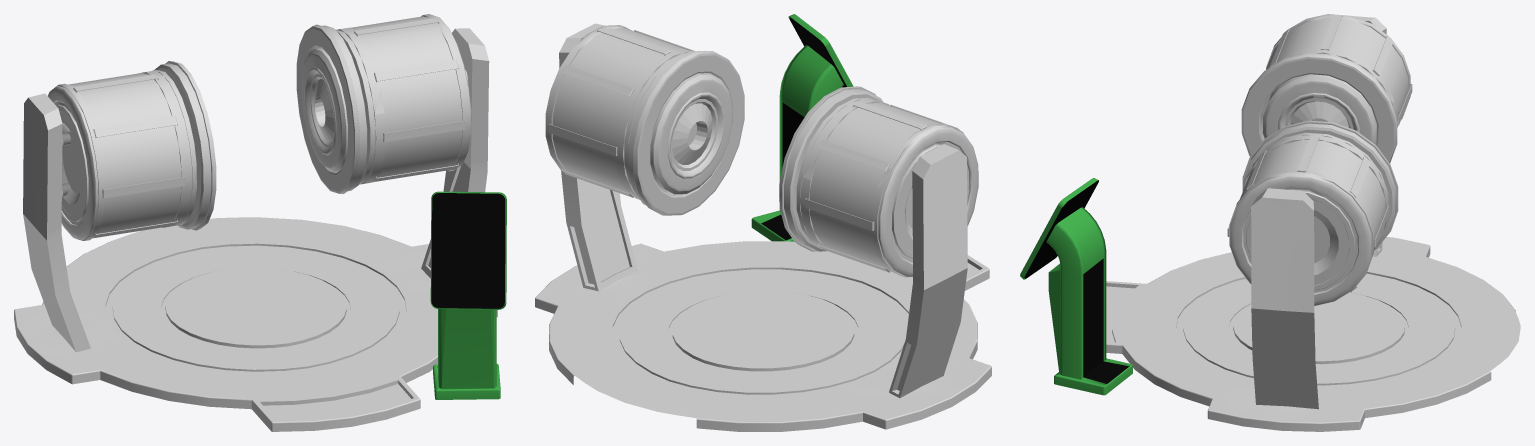
The model's file is updatemachine.fbx.
The picture shows the model from 3 angles, left to right: view 1: azimuth 30°, elevation 25°; view 2: azimuth 150°, elevation 25°; view 3: azimuth 270°, elevation 25°; orthographic projection. The views are drawn at different scales.
Parts seen in each view (by area): view 1: polySurface1, group2_polySurface106_polySurface106front8, group2_polySurface106_polySurface106front6, polySurface2, polySurface3; view 2: polySurface1, group2_polySurface106_polySurface106front8, group2_polySurface106_polySurface106front6, polySurface3, polySurface2; view 3: polySurface1, group2_polySurface106_polySurface106front8, group2_polySurface106_polySurface106front6, polySurface3, polySurface2.
Boxes of the visible parts, <box> form: polySurface1: <box>14,28,497,431</box>; group2_polySurface106_polySurface106front8: <box>296,14,471,194</box>; group2_polySurface106_polySurface106front6: <box>48,61,216,240</box>; polySurface2: <box>430,191,506,309</box>; polySurface3: <box>433,309,500,399</box>; polySurface1: <box>535,23,991,431</box>; group2_polySurface106_polySurface106front8: <box>545,25,744,215</box>; group2_polySurface106_polySurface106front6: <box>779,86,978,277</box>; polySurface3: <box>751,45,843,241</box>; polySurface2: <box>788,14,853,87</box>; polySurface1: <box>1106,16,1520,431</box>; group2_polySurface106_polySurface106front8: <box>1227,120,1398,305</box>; group2_polySurface106_polySurface106front6: <box>1241,14,1412,162</box>; polySurface3: <box>1046,207,1132,395</box>; polySurface2: <box>1020,178,1098,279</box>.
Size of the model in its own units: 339 by 206 by 375.
